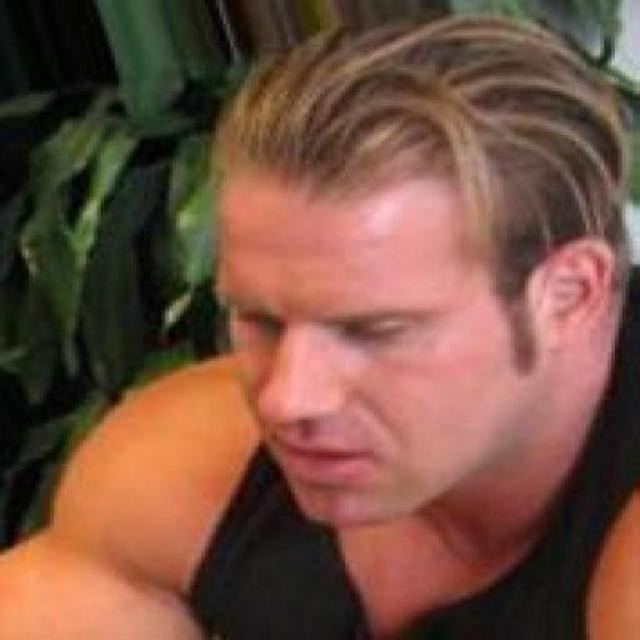bareface: (190, 41, 591, 525)
